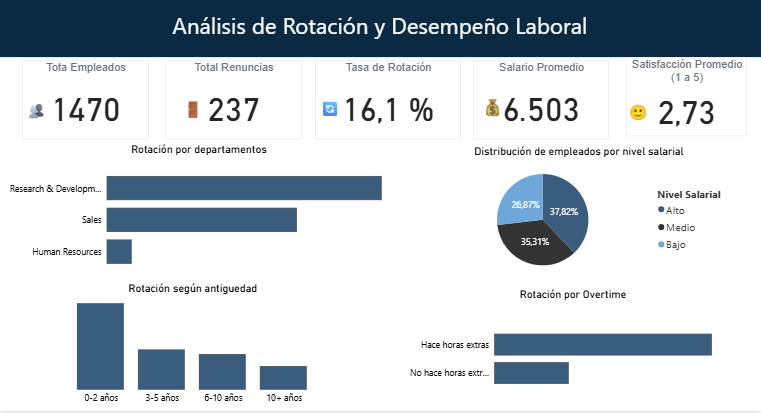

This screenshot's page, from the dashboard's own definition file:
{"tool":"powerbi","page":{"name":"Análisis de Rotación","canvas":[1280,720],"ordinal":0},"visuals":[{"type":"clusteredBarChart","title":"Rotación por departamentos","fields":{"Category":["WA_Fn-UseC_-HR-Employee-Attriti.Department"],"Y":["WA_Fn-UseC_-HR-Employee-Attriti.Total Renuncias"]},"box":[0,270.4,671.9,233.5],"z":0},{"type":"columnChart","title":"Rotación según antiguedad ","fields":{"Category":["WA_Fn-UseC_-HR-Employee-Attriti.SeniorityGroup"],"Y":["WA_Fn-UseC_-HR-Employee-Attriti.Tasa Rotacion"]},"box":[84,503.9,482.1,216.7],"z":1000},{"type":"donutChart","title":"Distribución de empleados por nivel salarial","fields":{"Y":["WA_Fn-UseC_-HR-Employee-Attriti.Total Empleados"],"Category":["WA_Fn-UseC_-HR-Employee-Attriti.IncomeGroup"]},"box":[715.7,270.7,517.3,233.9],"z":2000},{"type":"clusteredBarChart","title":"Rotación por Overtime","fields":{"Category":["WA_Fn-UseC_-HR-Employee-Attriti.OverTime"],"Y":["WA_Fn-UseC_-HR-Employee-Attriti.Tasa Rotacion"]},"box":[671.8,498.9,583.9,221.1],"z":3000},{"type":"textbox","box":[0,25.2,1280,100.8],"z":4000},{"type":"card","title":"Tota Empleados","fields":{"Values":["WA_Fn-UseC_-HR-Employee-Attrition.Total Empleados"]},"box":[38.6,131,213.3,132.7],"z":6000},{"type":"image","box":[38.6,199.9,48.7,33.6],"z":7000},{"type":"card","title":"Total Renuncias","fields":{"Values":["WA_Fn-UseC_-HR-Employee-Attrition.Total Renuncias"]},"box":[278.8,131,230.1,132.7],"z":8000},{"type":"image","box":[297.3,194.9,57.1,38.6],"z":9000},{"type":"card","title":"Tasa de Rotación","fields":{"Values":["WA_Fn-UseC_-HR-Employee-Attrition.Tasa Rotacion"]},"box":[530.8,131,245.2,132.7],"z":10000},{"type":"image","box":[530.8,194.9,50.4,37],"z":11000},{"type":"card","title":"Salario Promedio","fields":{"Values":["WA_Fn-UseC_-HR-Employee-Attrition.Salario Promedio"]},"box":[796.2,131,228.5,132.7],"z":12000},{"type":"image","box":[796.2,189.8,65.5,42],"z":13000},{"type":"card","title":"Satisfacción Promedio (1 a 5)","fields":{"Values":["WA_Fn-UseC_-HR-Employee-Attrition.Satisfaccion Promedio"]},"box":[1053.2,126,203.3,132.7],"z":14000},{"type":"image","box":[1053.2,199.9,40.3,38.6],"z":15000}]}

Visuals, with their boxes on the page's 1280x720 design canvas (x1, y1, x2, y2). These are canvas units, not pixel positions in the 761x413 screenshot, which may show the page scaled, cropped or inside an application window:
"Rotación por departamentos" clusteredBarChart: 0,270,672,504
"Rotación según antiguedad " columnChart: 84,504,566,721
"Distribución de empleados por nivel salarial" donutChart: 716,271,1233,505
"Rotación por Overtime" clusteredBarChart: 672,499,1256,720
textbox: 0,25,1280,126
"Tota Empleados" card: 39,131,252,264
image: 39,200,87,234
"Total Renuncias" card: 279,131,509,264
image: 297,195,354,234
"Tasa de Rotación" card: 531,131,776,264
image: 531,195,581,232
"Salario Promedio" card: 796,131,1025,264
image: 796,190,862,232
"Satisfacción Promedio (1 a 5)" card: 1053,126,1256,259
image: 1053,200,1094,238
